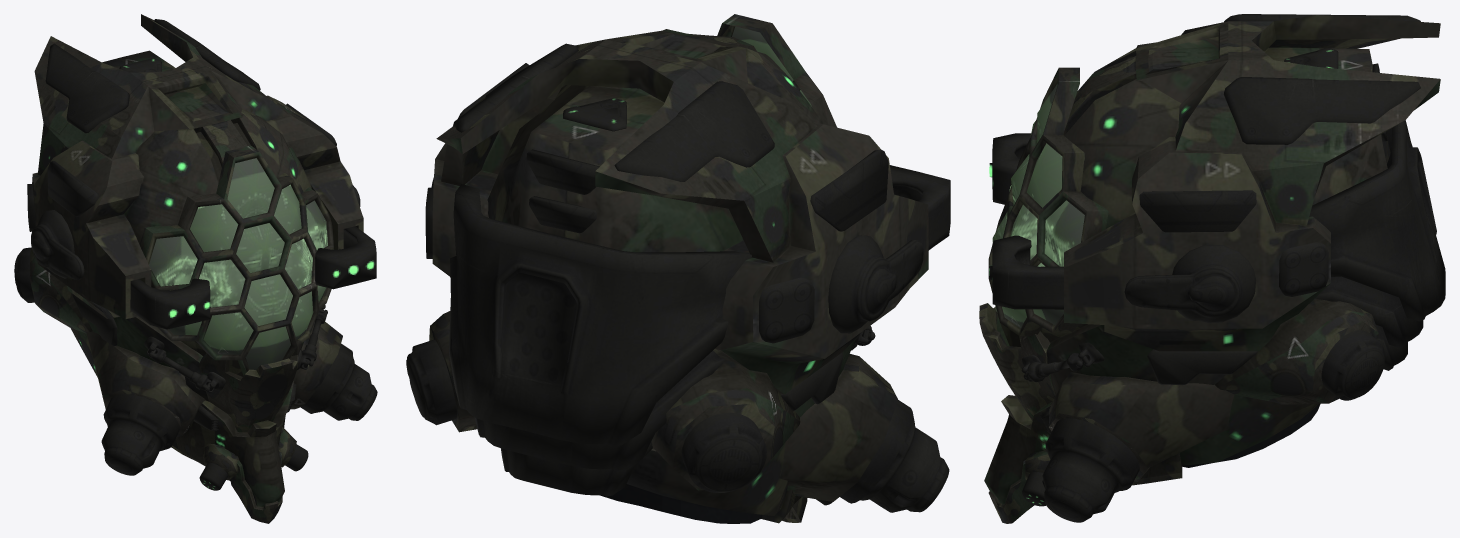
The model's file is the_hornet_military_helmet.glb.
The picture shows the model from 3 angles, left to right: view 1: azimuth 30°, elevation 25°; view 2: azimuth 150°, elevation 25°; view 3: azimuth 270°, elevation 25°; orthographic projection. The views are drawn at different scales.
Visible parts, largest first — view 1: g (×22); view 2: g (×22); view 3: g (×25).
Boxes of the visible parts, left/top/right/bottom form: g (×22): left=14, top=14, right=377, bottom=523; g (×22): left=406, top=14, right=950, bottom=523; g (×25): left=979, top=14, right=1445, bottom=523.
Size of the model in its own units: 1.64 by 2 by 1.75.
Materials: 2 (2 with a texture image).
